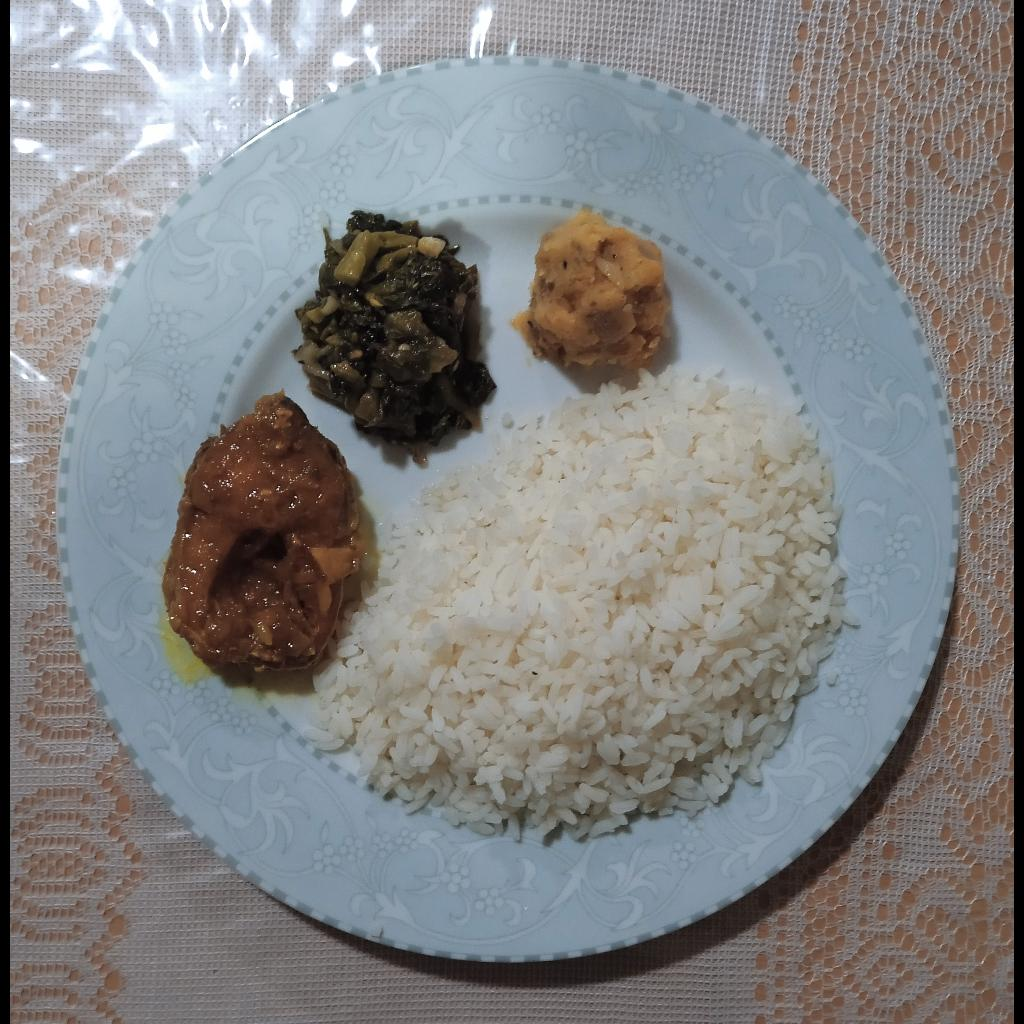fish: (163, 393, 355, 679)
potato-mashed: (509, 209, 670, 368)
rice: (305, 366, 846, 841)
shak: (294, 208, 503, 451)
